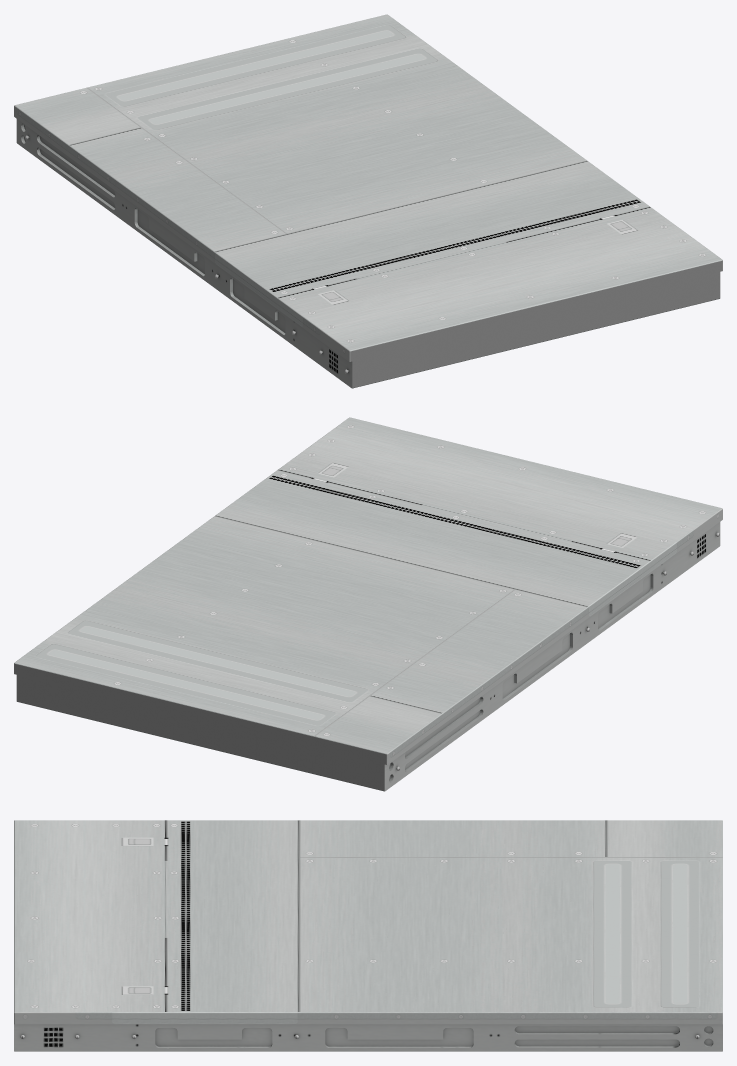
File: zhongjian.obj
The picture shows the model from 3 angles, top to bottom: view 1: azimuth 30°, elevation 25°; view 2: azimuth 150°, elevation 25°; view 3: azimuth 270°, elevation 25°; orthographic projection. The views are drawn at different scales.
Parts seen in each view (by area): view 1: ChamferBox01; view 2: ChamferBox01; view 3: ChamferBox01.
Boxes of the visible parts, x1,y1,x2,y2 form: ChamferBox01: (14, 14, 722, 388); ChamferBox01: (14, 417, 722, 791); ChamferBox01: (14, 820, 722, 1051).
Size of the model in its own units: 45.08 by 4.45 by 70.
